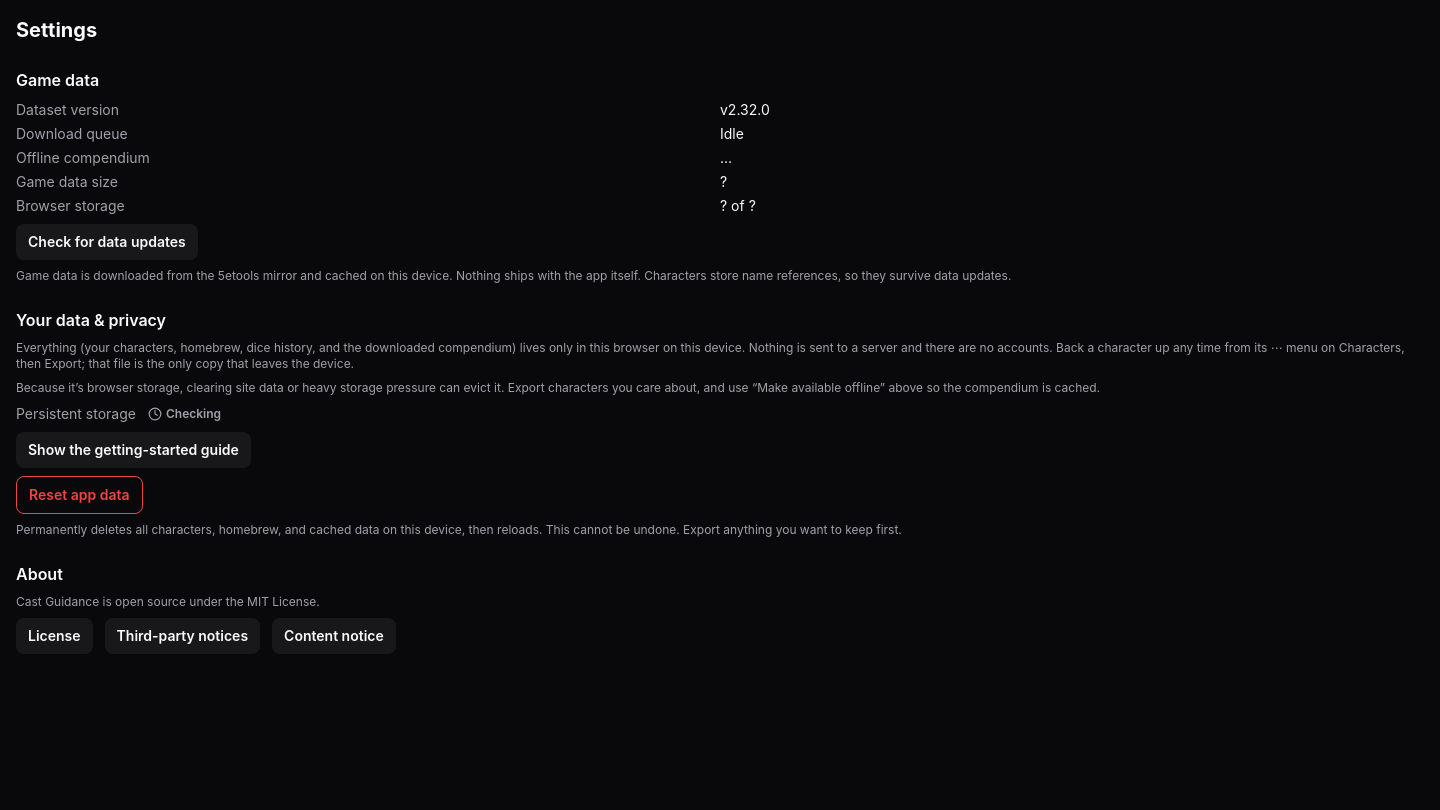
SettingsPage data announcements › alerts a failed install once, through the banner
This screenshot has width=1440, height=810.
Click the button "Check for data updates" at [107, 242], box [16,224,198,260]
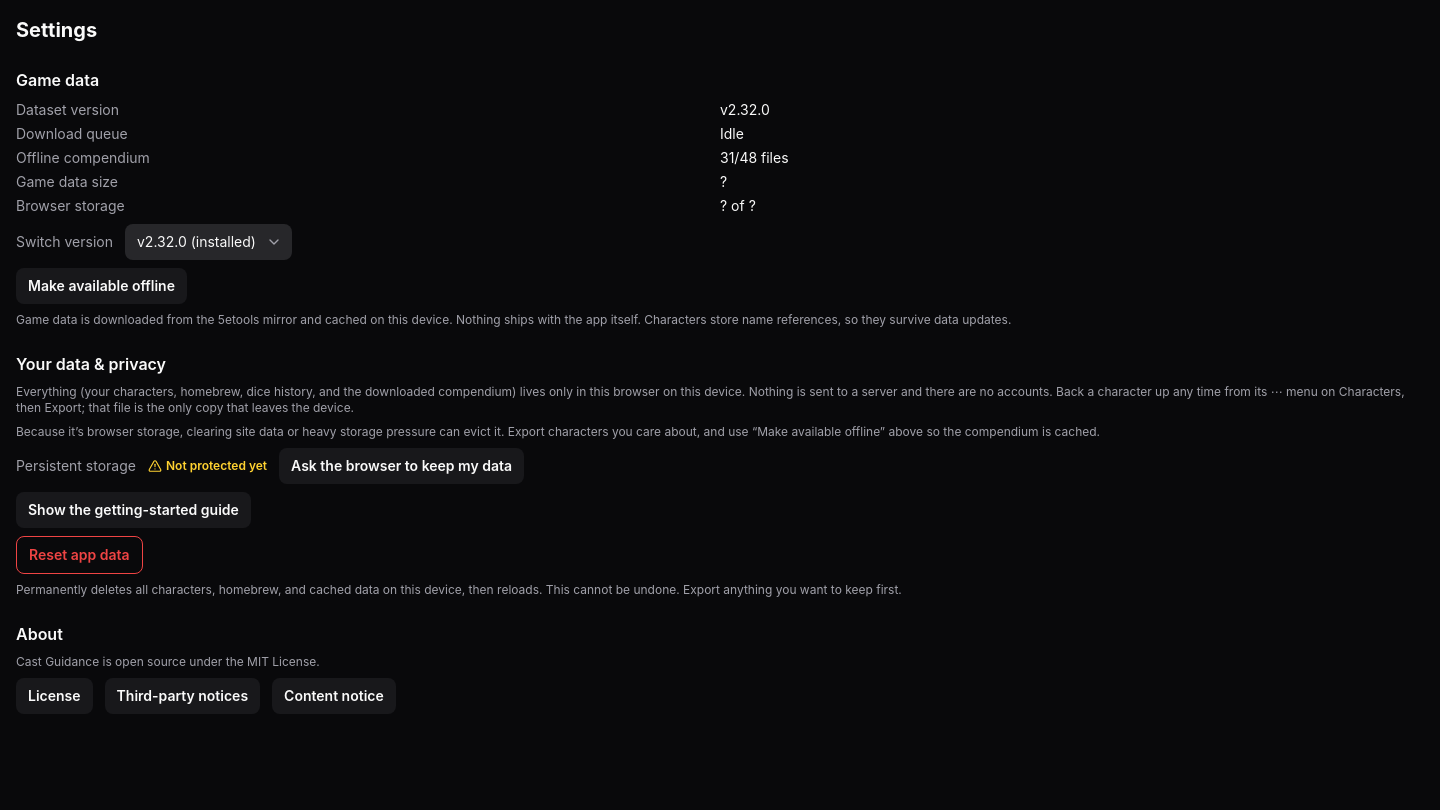
Select "v2.33.0" in the dropdown labelled "Switch version" at [208, 242], box [125,224,292,260]
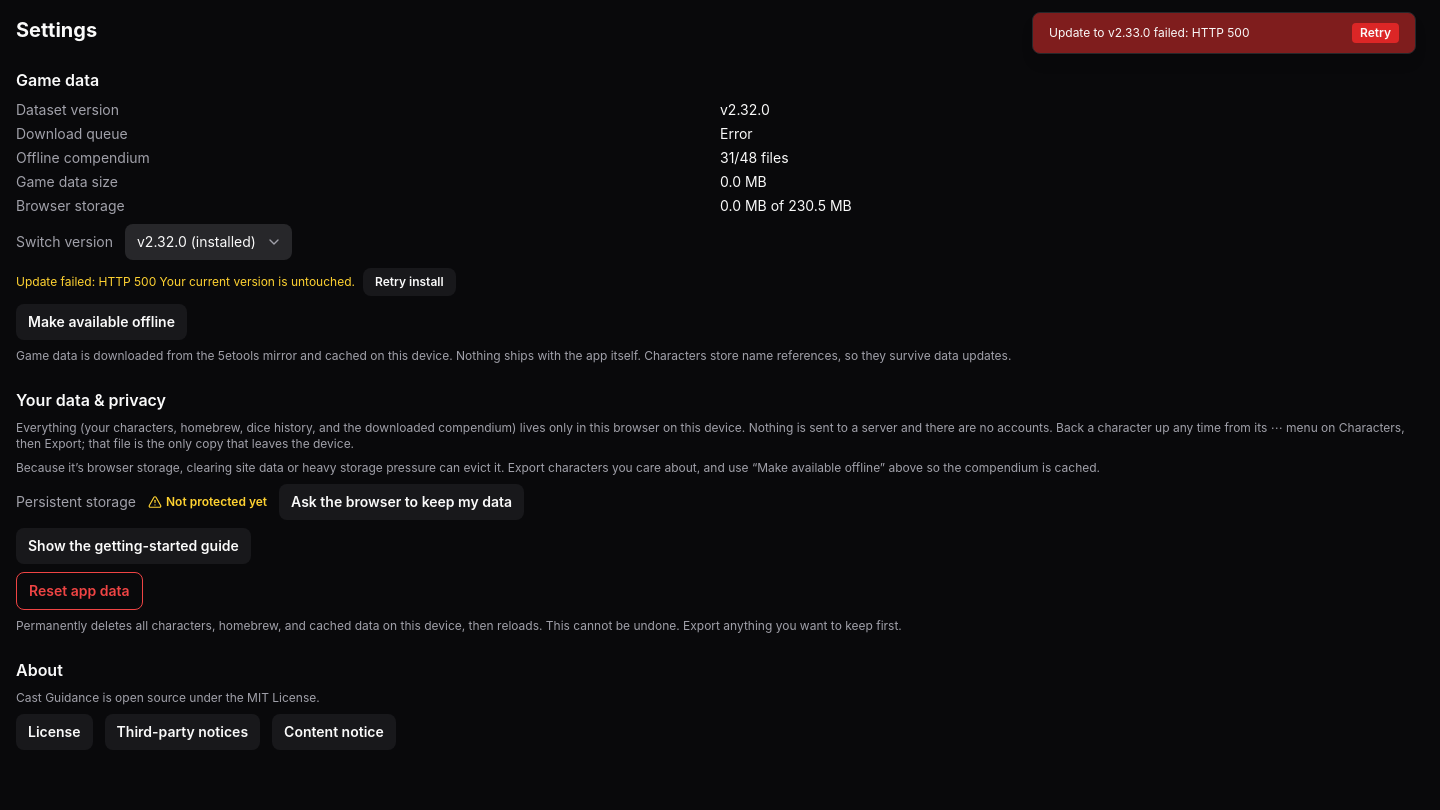
Result: the text "Update failed: HTTP 500 Your current version is untouched." is shown at [16,274,355,290]
Result: the number of messages is 1 at [1032,12,1416,54]
Result: the message shows "Update to v2.33.0 failed" at [1049,25,1250,40]
